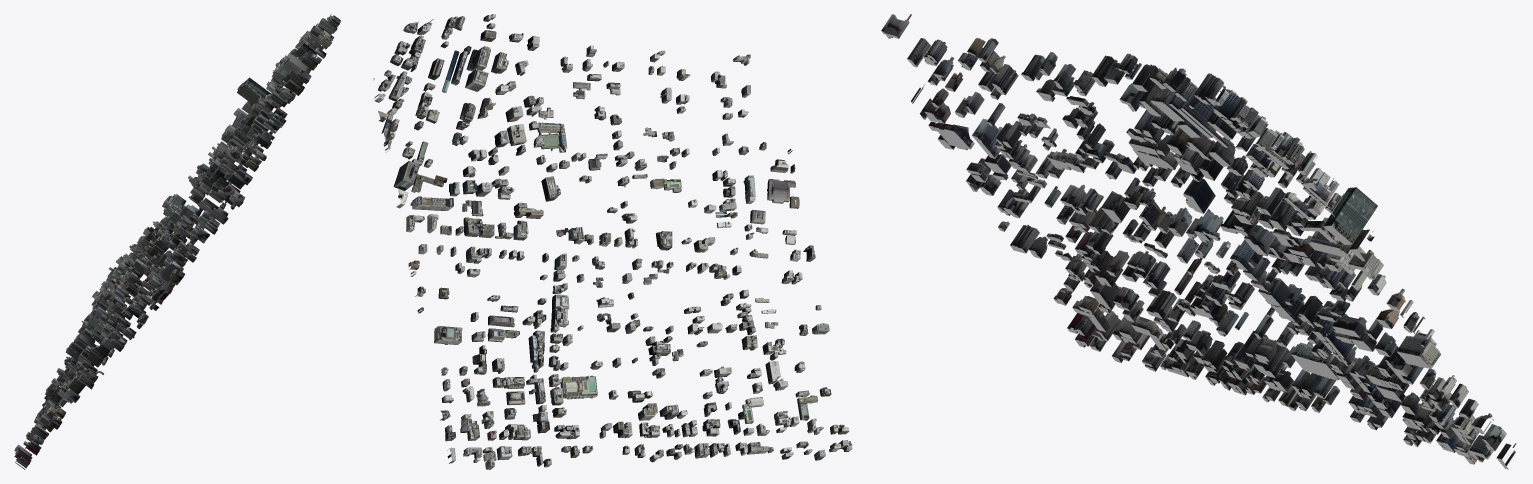
File: 4941_bldg_Building.glb
3 views of the same model, side by side, from view 1: azimuth 30°, elevation 25°; view 2: azimuth 150°, elevation 25°; view 3: azimuth 270°, elevation 25° (orthographic). The views are drawn at different scales.
Bounding box in the file's own units: 1136 × 993 × 1061.
Materials: 8 (7 with a texture image).
